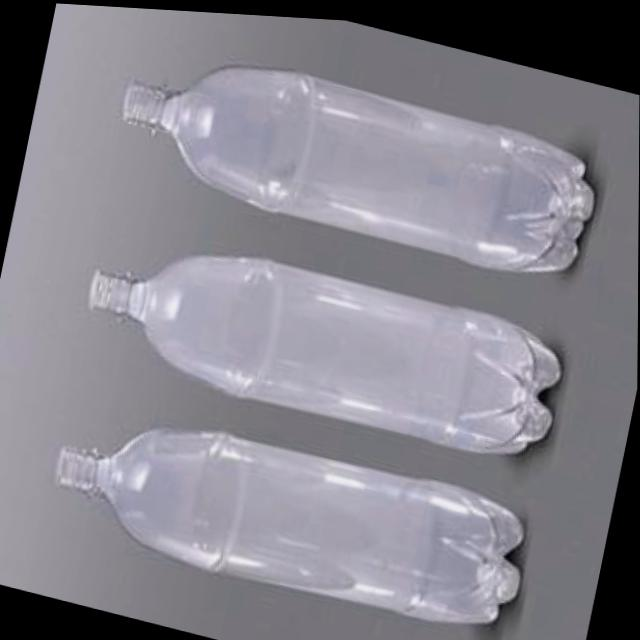anorganik: (94, 4, 620, 285), (64, 214, 574, 468), (35, 391, 545, 640)
